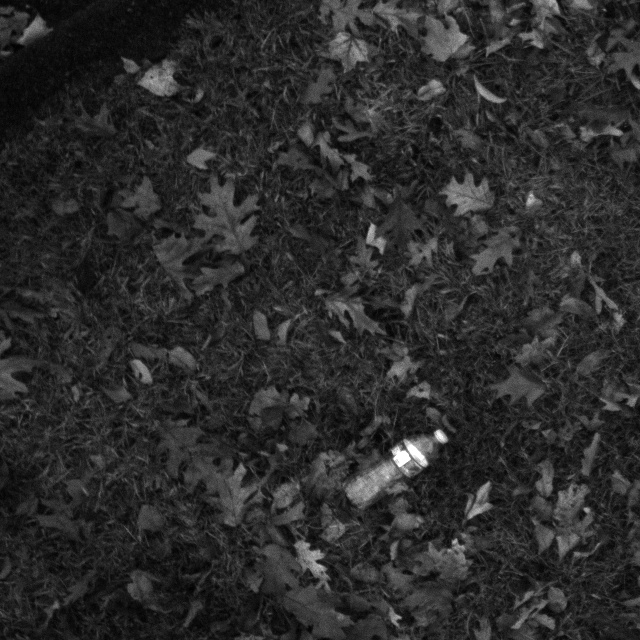bottle: (331, 410, 463, 517)
